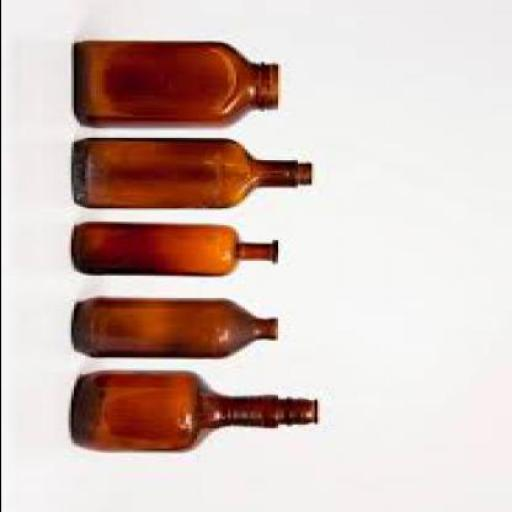glass: (72, 369, 318, 451), (72, 39, 280, 128), (72, 136, 314, 209), (70, 298, 280, 356), (70, 220, 280, 274)
